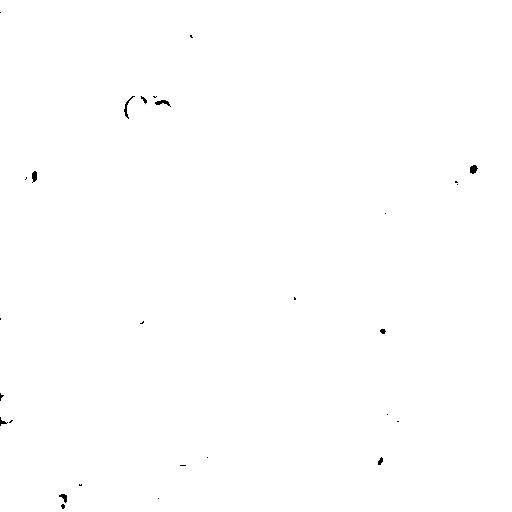micro-algae: (171, 85, 243, 157), (365, 3, 433, 76), (387, 427, 444, 482), (447, 159, 499, 214), (333, 250, 380, 301), (69, 264, 113, 302), (193, 37, 227, 77), (13, 152, 51, 180), (456, 152, 487, 186), (229, 360, 260, 391), (227, 275, 257, 307), (463, 0, 491, 33), (364, 445, 391, 476), (432, 0, 464, 24), (382, 409, 406, 441), (206, 1, 236, 26), (81, 186, 111, 211), (0, 393, 23, 425), (361, 61, 392, 84), (123, 93, 147, 122), (180, 20, 205, 46), (55, 471, 79, 497), (109, 335, 137, 357), (369, 316, 392, 342), (163, 59, 187, 83), (76, 466, 103, 487), (254, 321, 281, 342), (376, 195, 403, 216), (150, 99, 175, 121), (203, 449, 223, 476), (173, 445, 197, 467), (266, 426, 290, 447), (282, 322, 306, 343), (142, 493, 166, 512), (145, 439, 163, 464), (292, 283, 312, 305), (47, 493, 70, 509), (38, 0, 57, 18), (21, 169, 39, 187), (132, 308, 149, 327), (149, 494, 167, 507), (1, 11, 9, 36), (145, 1, 173, 6)
